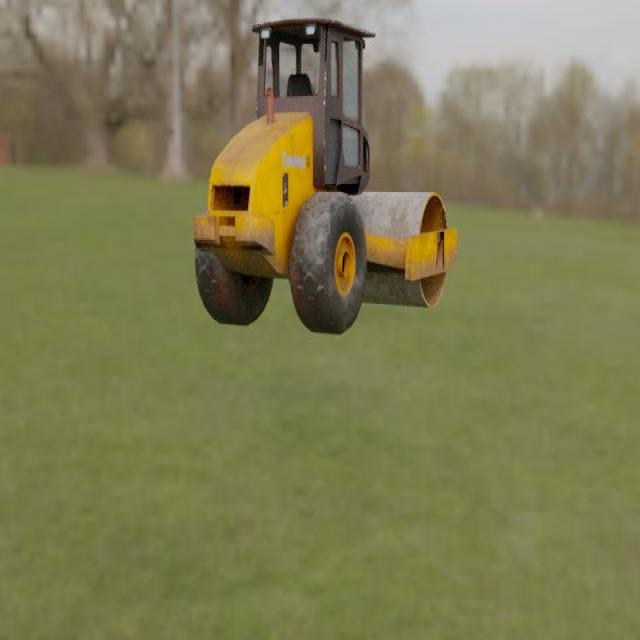Roller: (193, 16, 457, 335)
